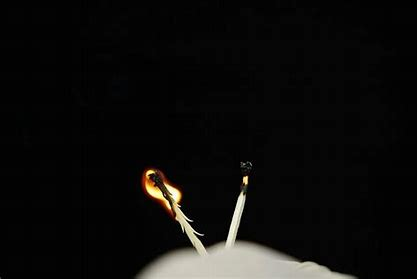Fire: (138, 165, 191, 209)
